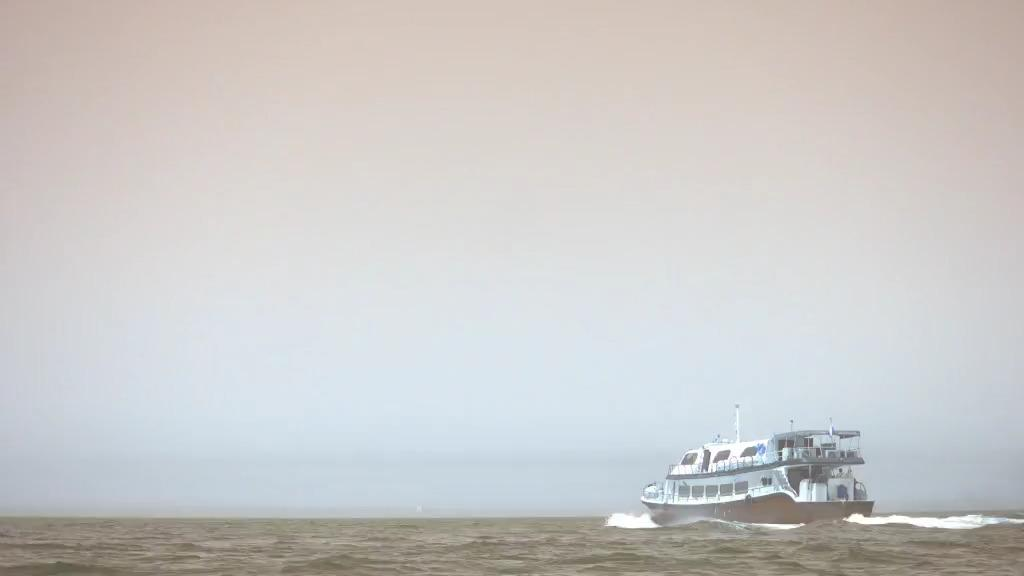PassengerShip: (638, 399, 884, 531)
